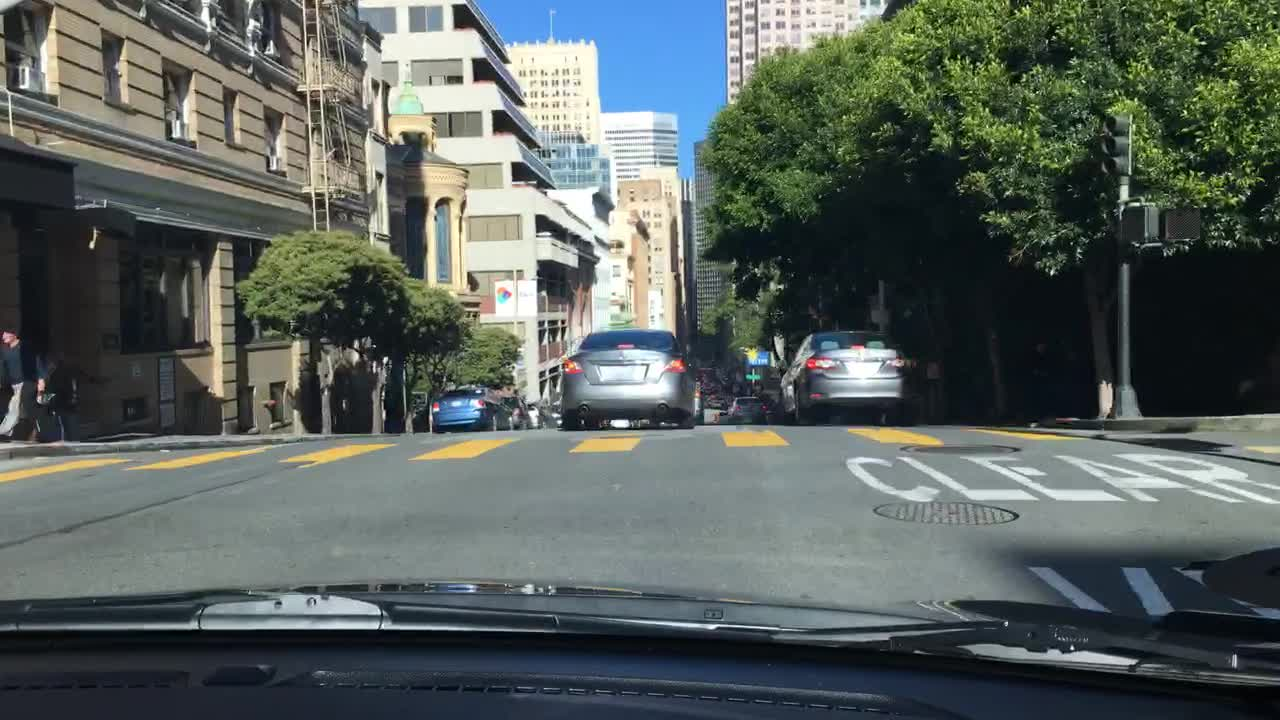car: (560, 324, 703, 427), (779, 327, 915, 425), (431, 382, 511, 429), (729, 394, 770, 426), (505, 390, 537, 429), (529, 399, 557, 430), (708, 397, 726, 411), (702, 380, 717, 390)
person: (1, 327, 57, 446)
traffic light: (1101, 110, 1131, 174), (1125, 203, 1159, 244), (1166, 207, 1202, 243)
traffic sign: (744, 348, 768, 363), (746, 371, 760, 381)
